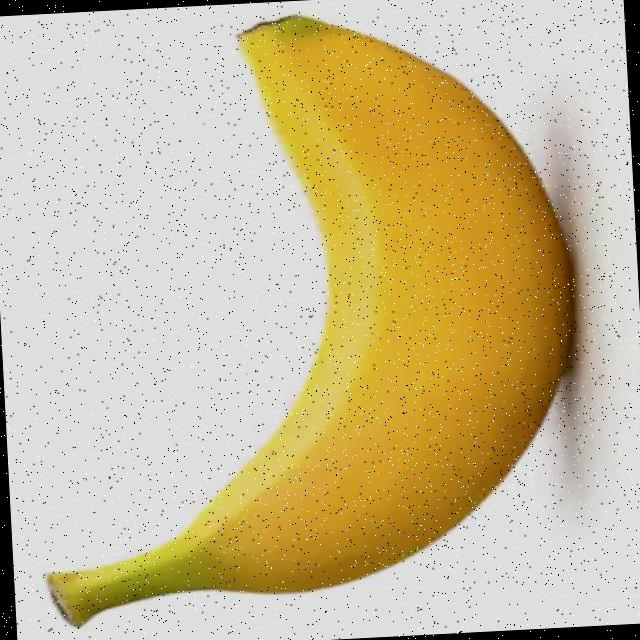Ripe: (15, 0, 592, 630)
